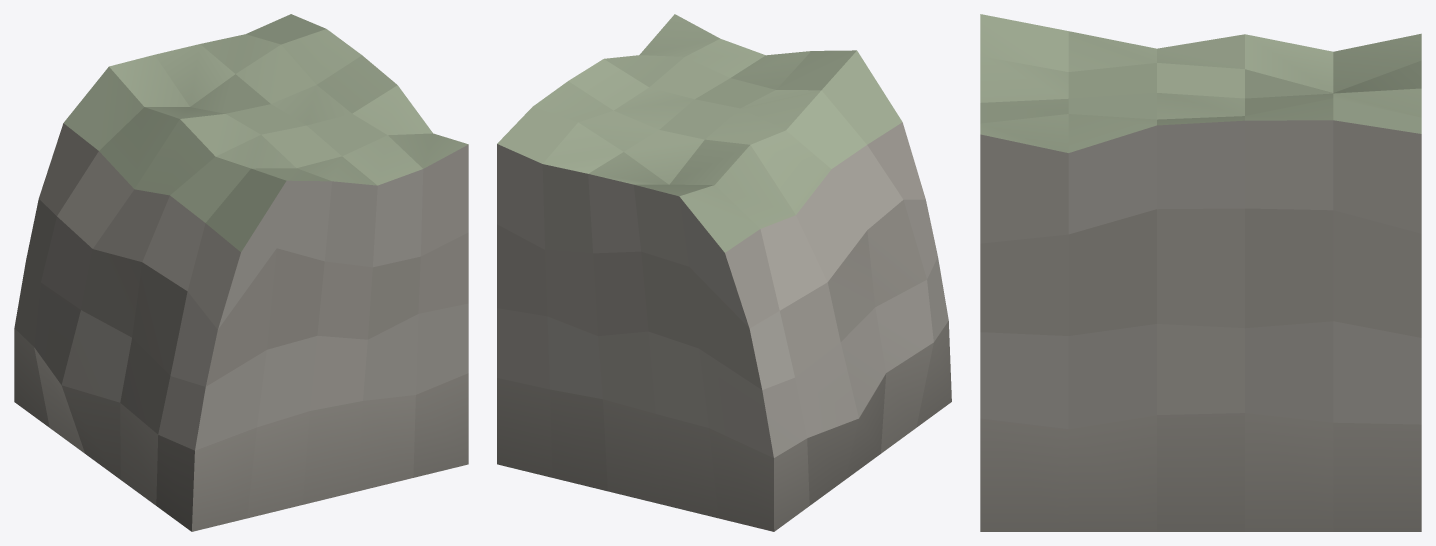
File: roca_te.glb
3 renders of one model, left to right at view 1: azimuth 30°, elevation 25°; view 2: azimuth 150°, elevation 25°; view 3: azimuth 270°, elevation 25°, orthographic. The views are drawn at different scales.
Parts seen in each view (by area): view 1: propforge-cuartos-roca_te; view 2: propforge-cuartos-roca_te; view 3: propforge-cuartos-roca_te.
Boxes of the visible parts, left/top/right/bottom form: propforge-cuartos-roca_te: left=14, top=14, right=468, bottom=531; propforge-cuartos-roca_te: left=497, top=14, right=951, bottom=531; propforge-cuartos-roca_te: left=980, top=14, right=1421, bottom=531.
Size of the model in its own units: 0.9608 by 1.03 by 1.
